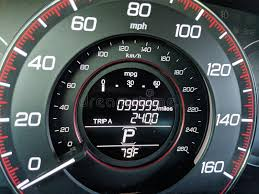Digital_Meter: (81, 97, 174, 129)
